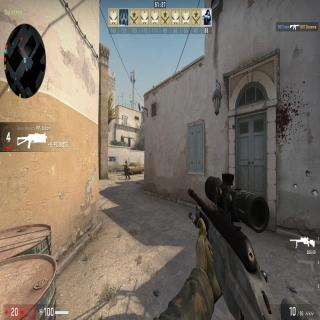T-Body: (123, 160, 131, 180)
T-Head: (125, 161, 127, 164)
